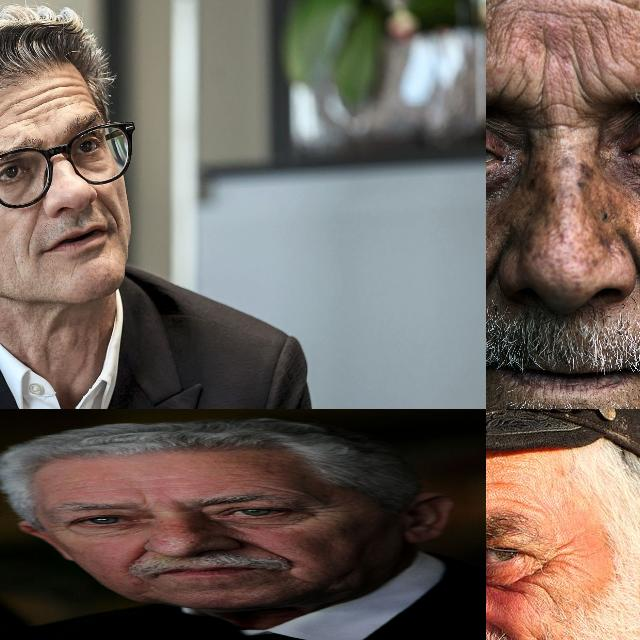crows_feet: (536, 542, 578, 574), (294, 503, 340, 516)
forehead: (579, 13, 640, 80), (14, 88, 56, 120), (532, 27, 554, 85), (486, 17, 507, 71), (59, 75, 85, 111), (499, 0, 612, 6), (252, 484, 305, 496), (220, 476, 282, 486), (486, 474, 506, 497)
frown_line: (529, 100, 593, 140), (131, 490, 154, 506)
gummy_smile: (486, 247, 510, 320), (622, 235, 640, 323), (93, 192, 123, 228), (232, 535, 279, 555), (119, 544, 158, 566), (26, 204, 42, 253)
sad_smile: (288, 574, 326, 585)
